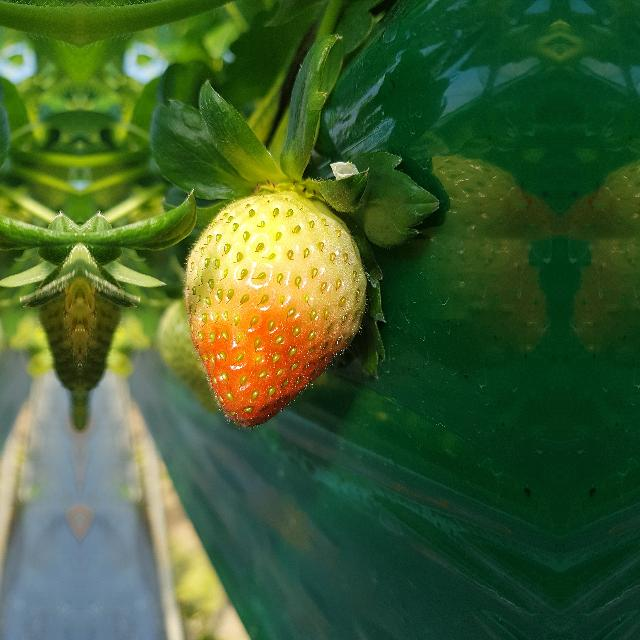Health_50: (181, 192, 369, 430)
